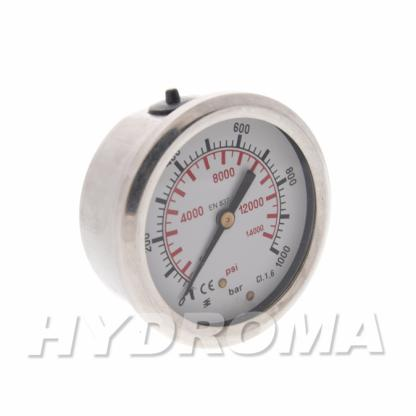needle: (181, 226, 224, 301)
